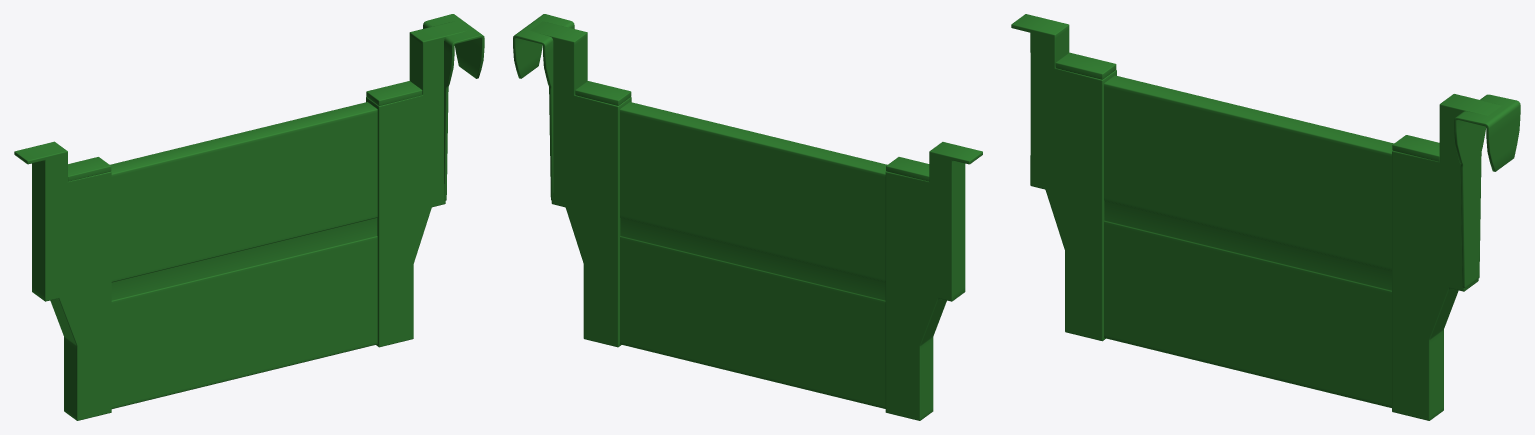
File: SM_Drawer_Divider_03.fbx
The picture shows the model from 3 angles, left to right: view 1: azimuth 30°, elevation 25°; view 2: azimuth 150°, elevation 25°; view 3: azimuth 330°, elevation 25°; orthographic projection. The views are drawn at different scales.
Parts seen in each view (by area): view 1: SM_Drawer_Divider_03; view 2: SM_Drawer_Divider_03; view 3: SM_Drawer_Divider_03.
Part boxes in pixels (left/top/right/bottom): SM_Drawer_Divider_03: left=14, top=14, right=484, bottom=420; SM_Drawer_Divider_03: left=513, top=14, right=982, bottom=420; SM_Drawer_Divider_03: left=1011, top=14, right=1520, bottom=420.
Bounding box in the file's own units: 24.75 × 15.55 × 2.81.
